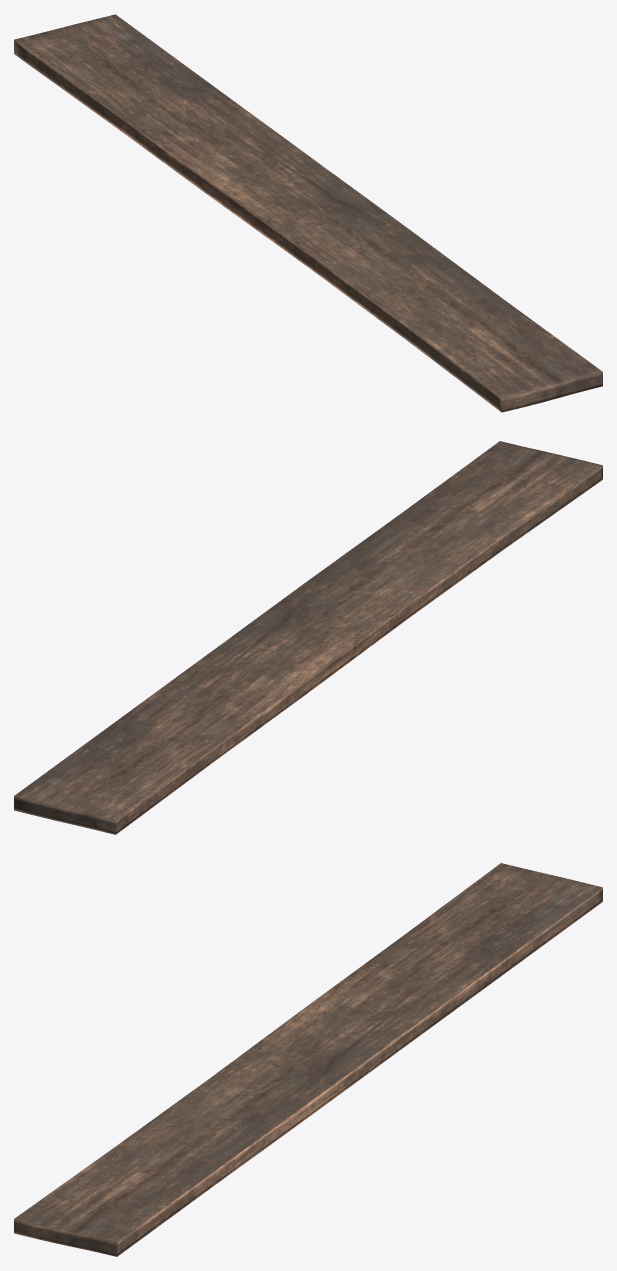
File: table.fbx
3 renders of one model, top to bottom at view 1: azimuth 30°, elevation 25°; view 2: azimuth 150°, elevation 25°; view 3: azimuth 330°, elevation 25°, orthographic.
Parts seen in each view (by area): view 1: table1; view 2: table1; view 3: table1.
Part boxes in pixels (bbox=[...]): table1: bbox=[14, 14, 602, 412]; table1: bbox=[14, 441, 602, 834]; table1: bbox=[14, 863, 602, 1256].
Size of the model in its own units: 55.91 by 7.8 by 459.
